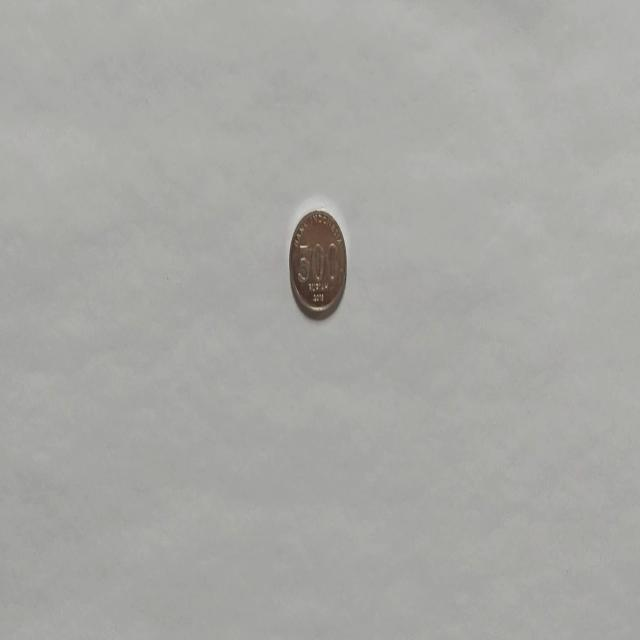lima ratus rupiah: (288, 208, 348, 320)
